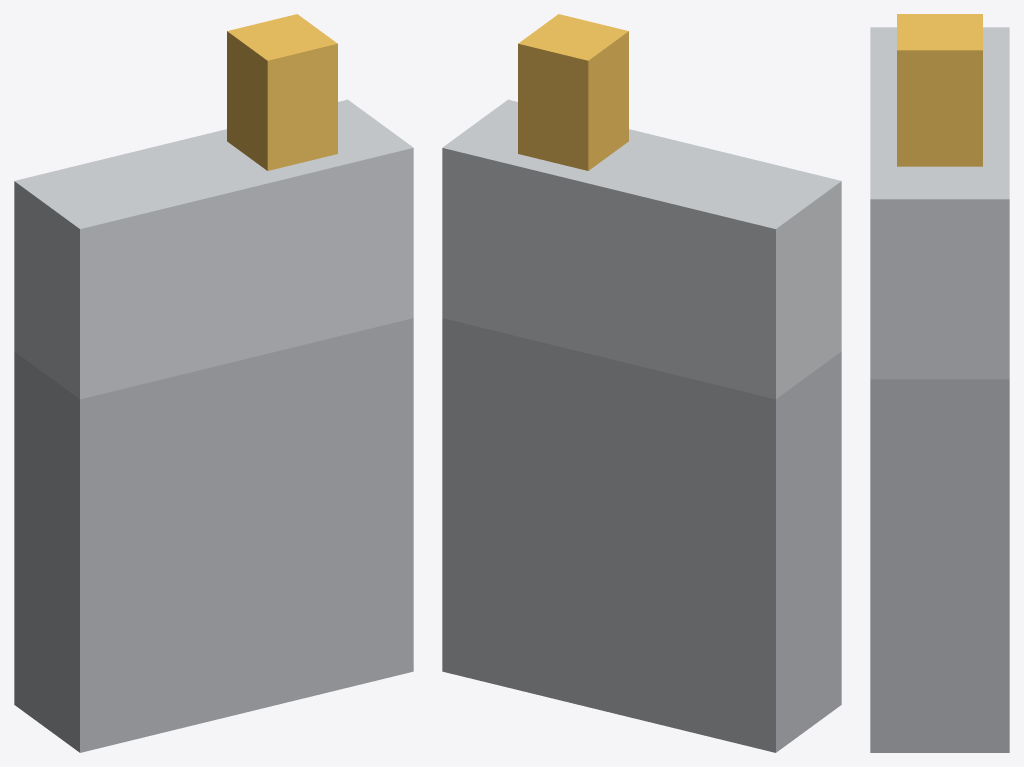
File: lighter.glb
The picture shows the model from 3 angles, left to right: view 1: azimuth 30°, elevation 25°; view 2: azimuth 150°, elevation 25°; view 3: azimuth 270°, elevation 25°; orthographic projection. The views are drawn at different scales.
Visible parts, largest first — view 1: lighter_mesh; view 2: lighter_mesh; view 3: lighter_mesh.
Part boxes in pixels (<box>): lighter_mesh: <box>14,14,413,752</box>; lighter_mesh: <box>442,14,841,752</box>; lighter_mesh: <box>870,14,1009,752</box>.
Bounding box in the file's own units: 0.038 × 0.069 × 0.013.
